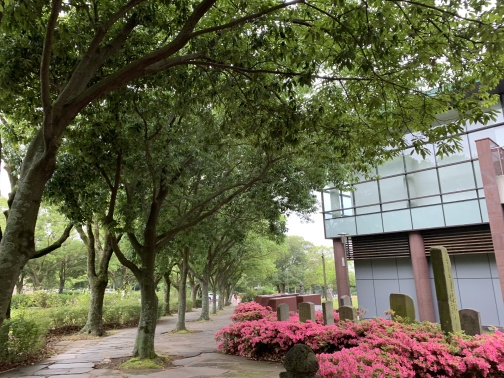Museum: (313, 104, 504, 347)
